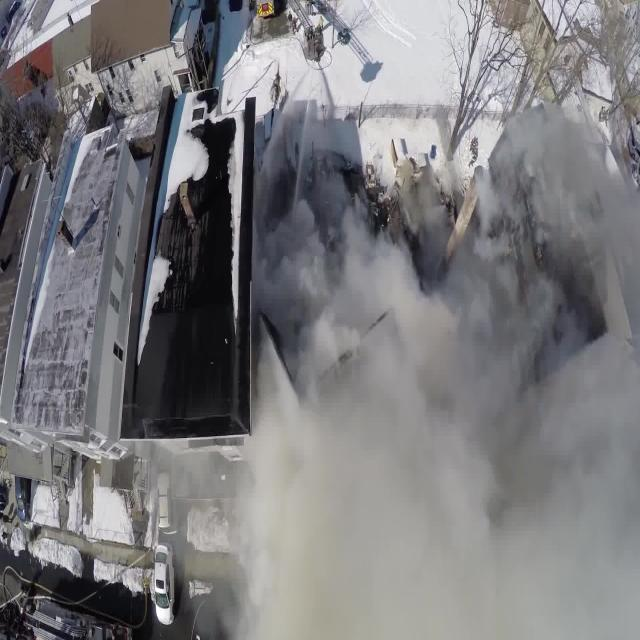Smoke: (173, 142, 640, 640)
